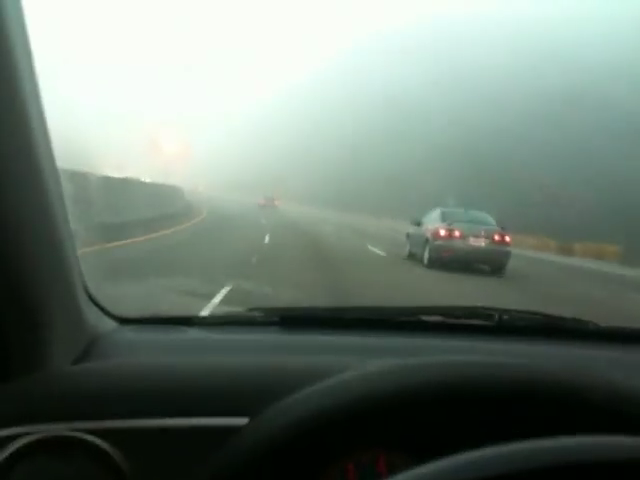car: (403, 207, 510, 278), (257, 194, 279, 208)
